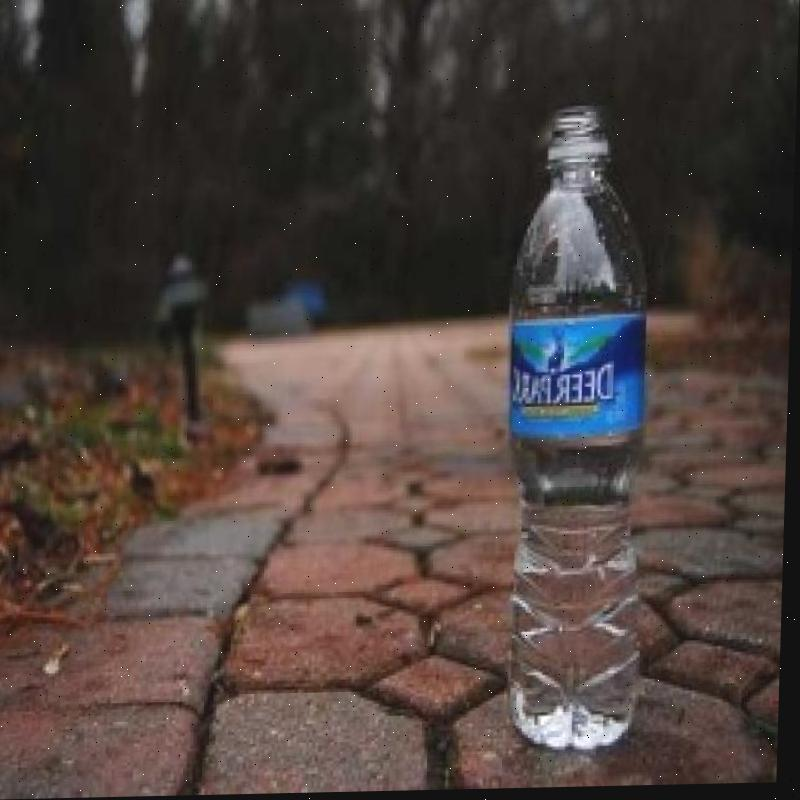botella: (503, 109, 662, 755)
